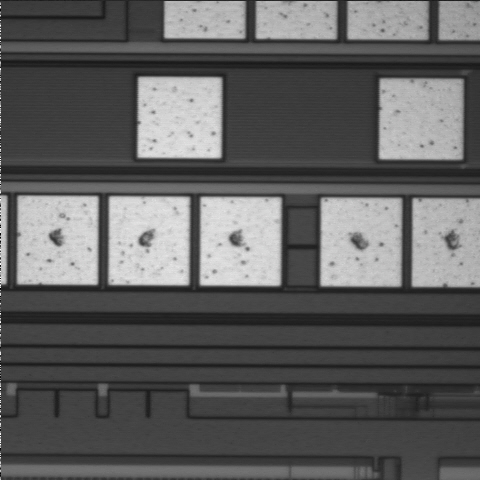pad: (200, 197, 281, 286), (18, 196, 98, 284), (109, 197, 189, 285), (321, 198, 401, 286), (138, 78, 221, 158), (380, 80, 461, 159)
